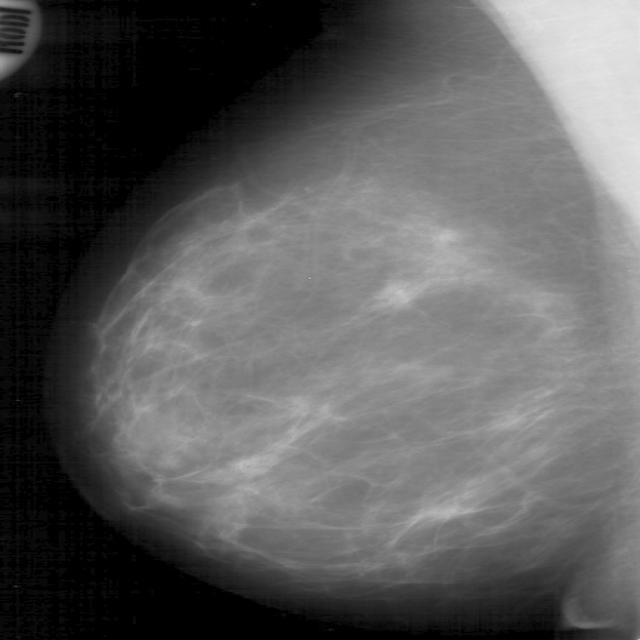tumour: (365, 280, 412, 309)
